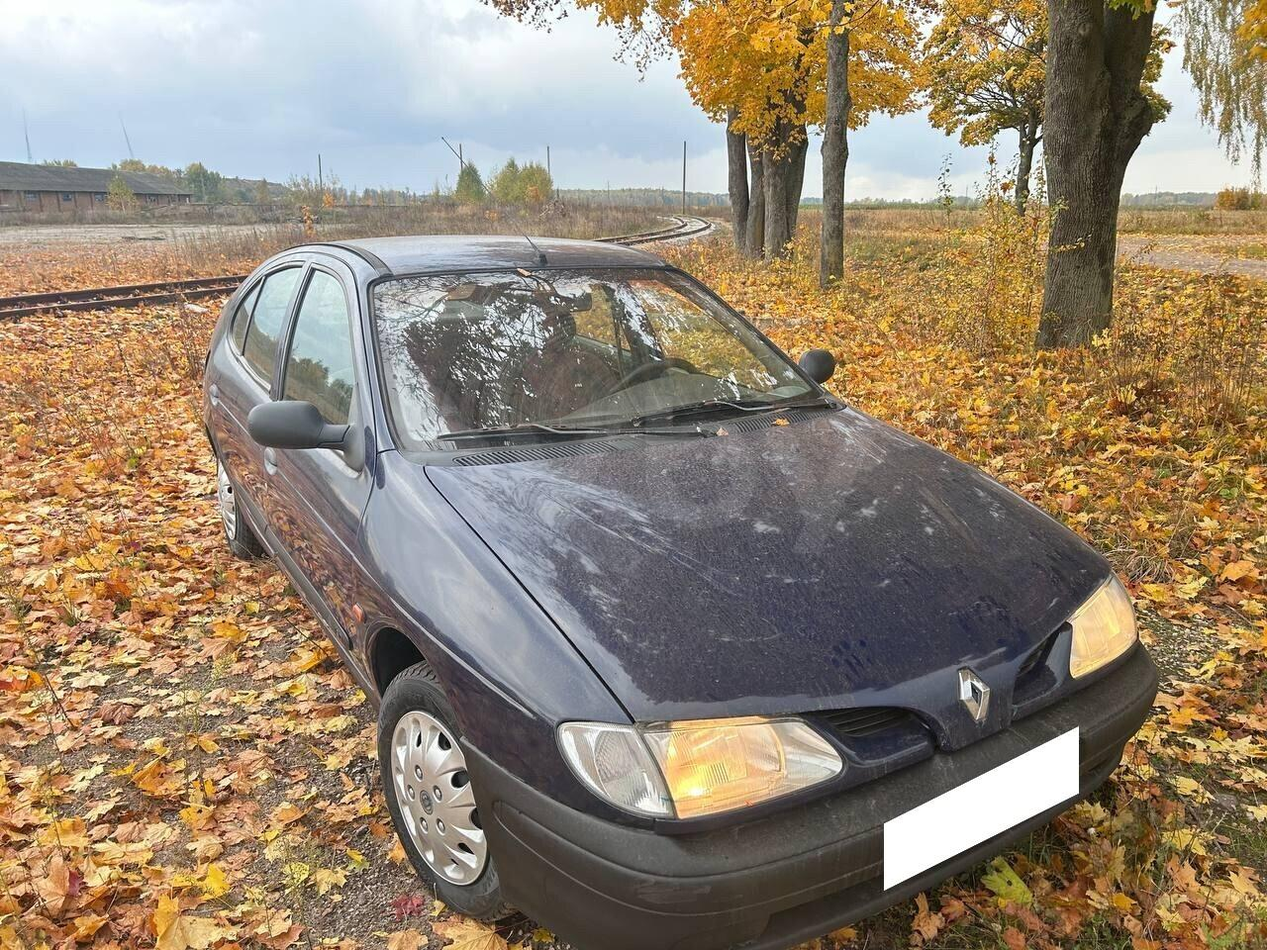Megane_1995-1999: (195, 235, 1162, 940)
